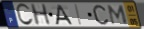A: (55, 4, 74, 26)
C: (15, 3, 35, 27), (92, 4, 110, 26)
H: (29, 3, 52, 27)
I: (74, 3, 84, 26)
M: (107, 4, 129, 26)
